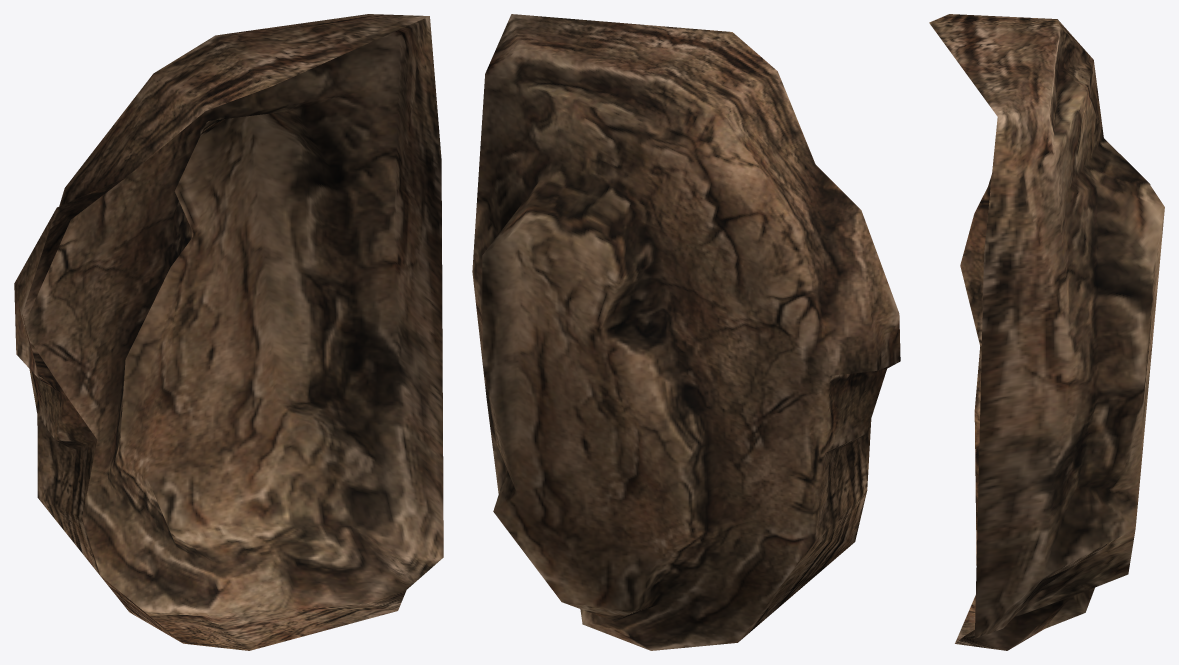
The model's file is MEP_Rock_05_a.fbx.
The picture shows the model from 3 angles, left to right: view 1: azimuth 30°, elevation 25°; view 2: azimuth 150°, elevation 25°; view 3: azimuth 270°, elevation 25°; orthographic projection. The views are drawn at different scales.
Visible parts, largest first — view 1: MEP_Rock_05_a; view 2: MEP_Rock_05_a; view 3: MEP_Rock_05_a.
Part boxes in pixels (x1=…): MEP_Rock_05_a: x1=14, y1=14, x2=443, y2=650; MEP_Rock_05_a: x1=472, y1=14, x2=900, y2=650; MEP_Rock_05_a: x1=929, y1=14, x2=1164, y2=650.
Bounding box in the file's own units: 5.33 × 7.29 × 2.73.
